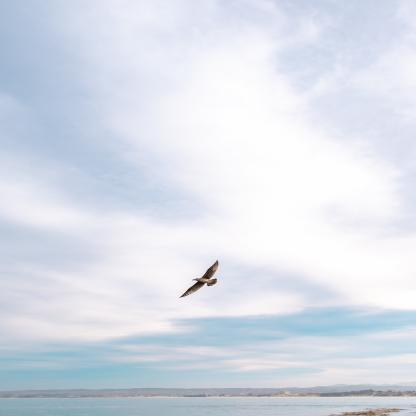bird: (179, 260, 219, 298)
